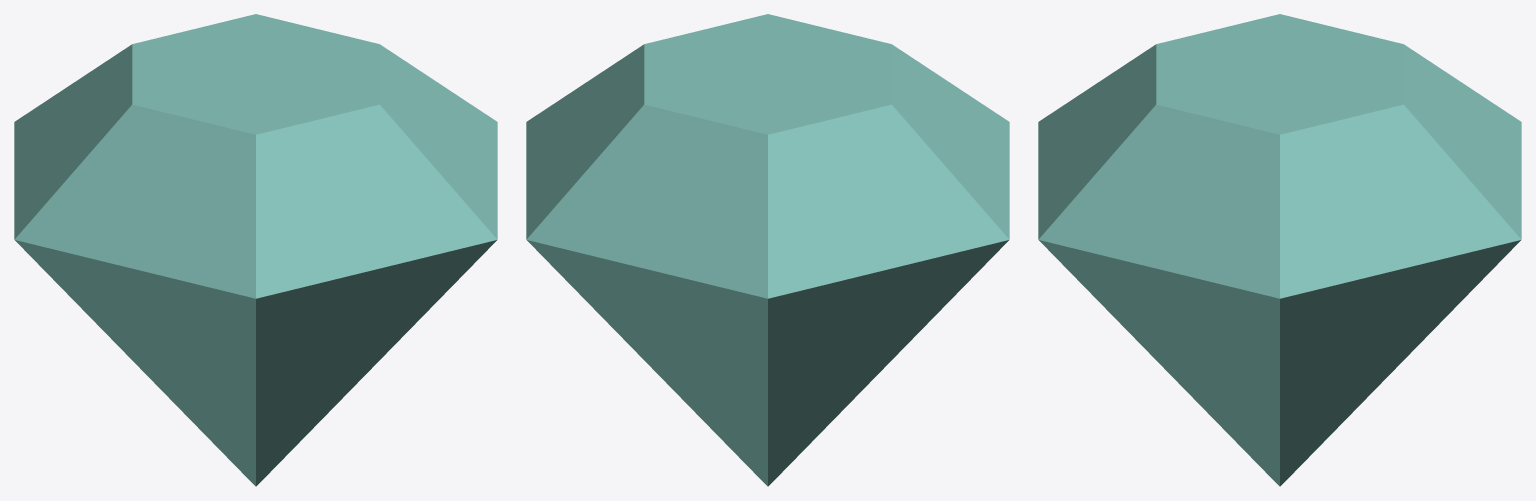
The model's file is WM_Diamond.fbx.
3 views of the same model, side by side, from view 1: azimuth 30°, elevation 25°; view 2: azimuth 150°, elevation 25°; view 3: azimuth 270°, elevation 25° (orthographic).
Parts seen in each view (by area): view 1: Cone_2; view 2: Cone_2; view 3: Cone_2.
Boxes of the visible parts, x1=… form: Cone_2: x1=14, y1=14, x2=497, y2=486; Cone_2: x1=526, y1=14, x2=1009, y2=486; Cone_2: x1=1038, y1=14, x2=1521, y2=486.
Size of the model in its own units: 1.8 by 1.47 by 1.56.
